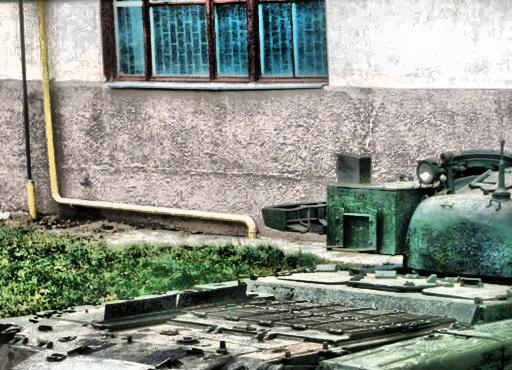tanks: (1, 153, 512, 370)
